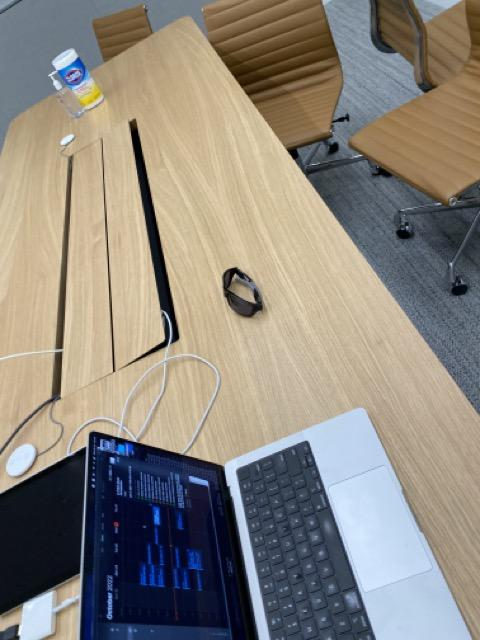Sunglasses: (222, 266, 266, 320)
